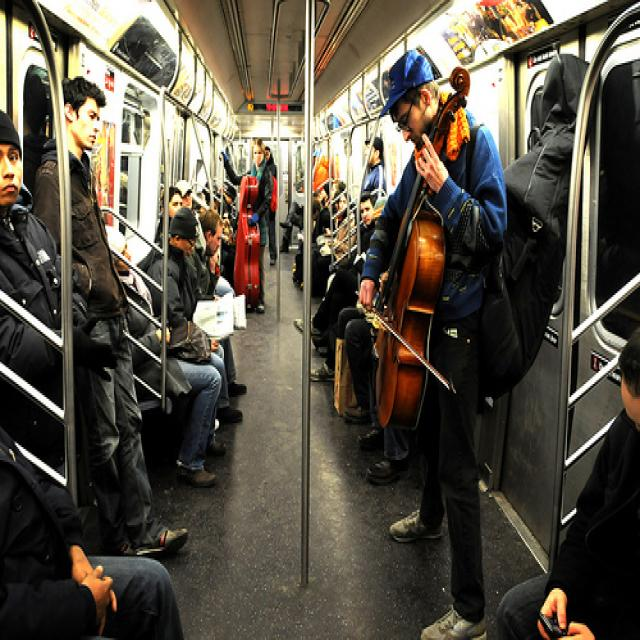cello: (368, 66, 471, 440)
